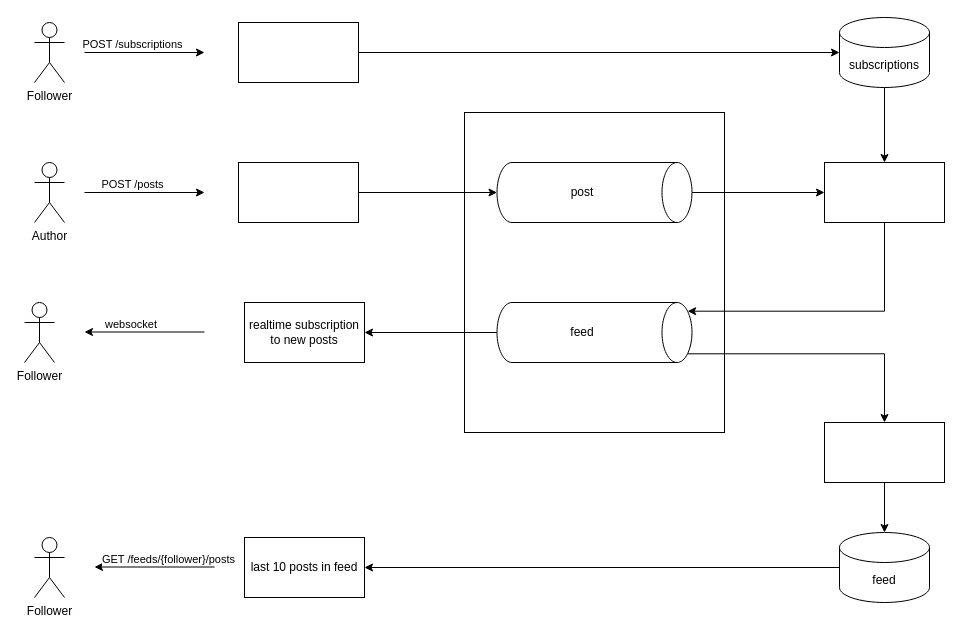
The diagram is 962 pixels wide and 636 high, and some of its shapes have lost their labels. Each missing label, with the box of its shape:
materialize feed: (824, 422, 944, 482)
public new post: (238, 162, 358, 222)
RabbitMQ: (464, 112, 724, 432)
send to followers feed: (824, 162, 944, 222)
subscribe to author: (238, 22, 358, 82)
